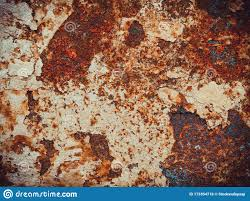rust: (151, 101, 250, 185), (31, 2, 123, 87), (162, 4, 250, 86), (70, 122, 122, 182), (30, 136, 64, 176), (119, 17, 151, 53), (22, 88, 44, 133), (6, 133, 34, 155), (1, 160, 23, 186)
